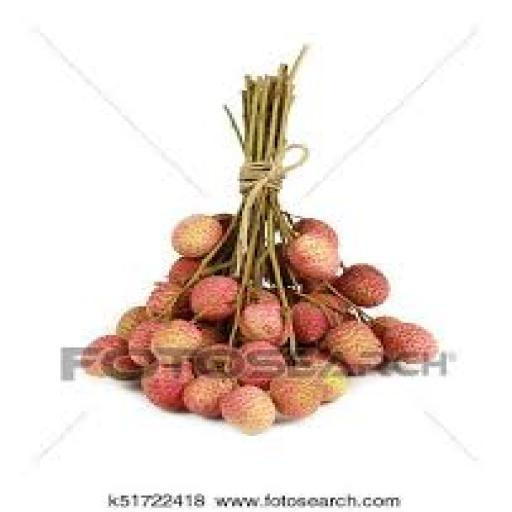lychee: (326, 321, 383, 372), (296, 352, 348, 403), (220, 385, 274, 433), (286, 233, 340, 279), (142, 362, 194, 409), (336, 264, 390, 306), (238, 342, 287, 388), (182, 377, 237, 417), (270, 377, 322, 419), (152, 319, 201, 363), (190, 276, 239, 320), (172, 214, 221, 257), (384, 323, 436, 363), (240, 303, 285, 345), (81, 336, 128, 376), (195, 344, 244, 378), (293, 301, 330, 343), (129, 321, 161, 366), (147, 282, 189, 316), (296, 218, 337, 246), (117, 307, 148, 339), (109, 354, 143, 380), (169, 258, 201, 285), (371, 315, 401, 339), (197, 323, 224, 347)
